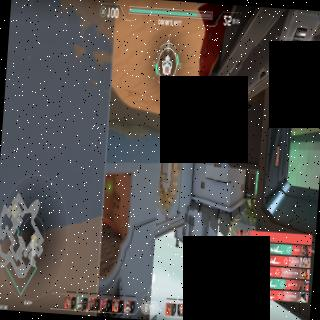ENEMY-BODY: (163, 144, 167, 157)
ENEMY-HEAD: (164, 154, 166, 156)
